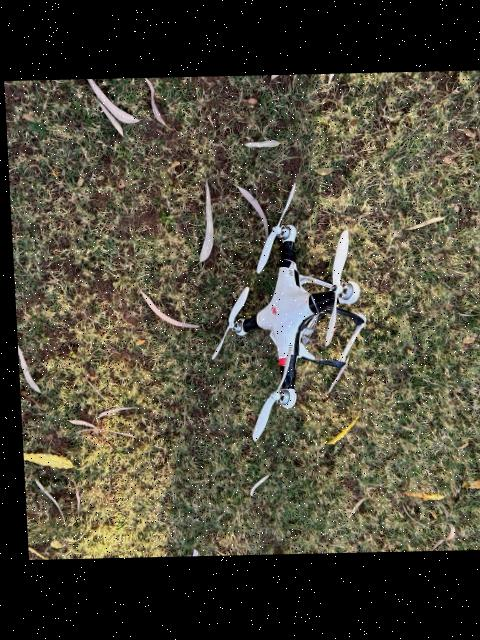drone: (132, 124, 404, 503)
